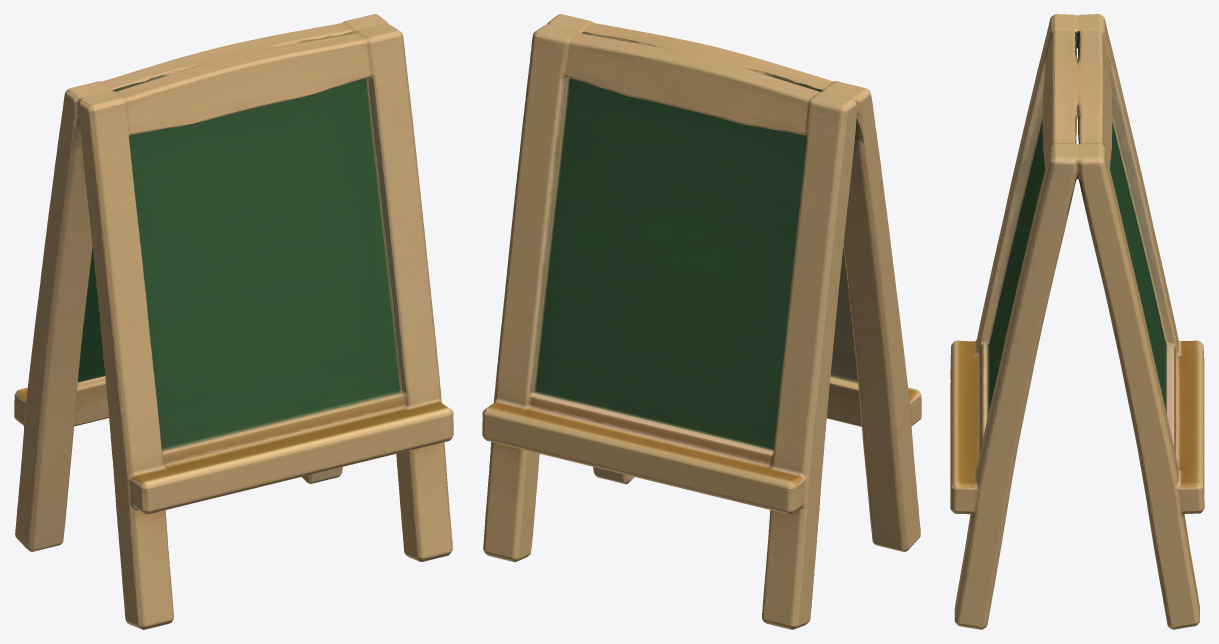
The model's file is chalkboard.glb.
The picture shows the model from 3 angles, left to right: view 1: azimuth 30°, elevation 25°; view 2: azimuth 150°, elevation 25°; view 3: azimuth 270°, elevation 25°; orthographic projection. The views are drawn at different scales.
Visible parts, largest first — view 1: tmpzqrvm3ps.ply; view 2: tmpzqrvm3ps.ply; view 3: tmpzqrvm3ps.ply.
Boxes of the visible parts, x1,y1,x2,y2 form: tmpzqrvm3ps.ply: [14, 14, 453, 629]; tmpzqrvm3ps.ply: [482, 14, 921, 629]; tmpzqrvm3ps.ply: [950, 14, 1204, 629].
Size of the model in its own units: 1.33 by 1.99 by 0.9633.
Materials: 1 (1 with a texture image).
